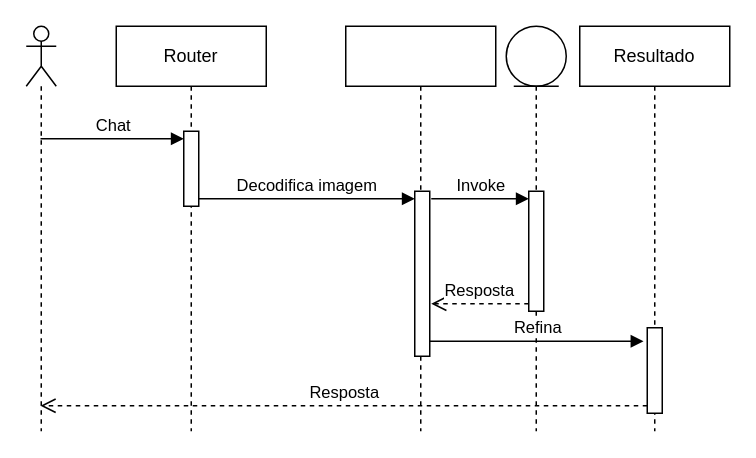
Some shapes in this 756 by 458 pixel diagram are drawn without their labels. Here are the shapes that lost their labels. From the top down, the centre of each, then its label:
At pixel 420 228: "Texto".
At pixel 535 228: "LLaMA".
